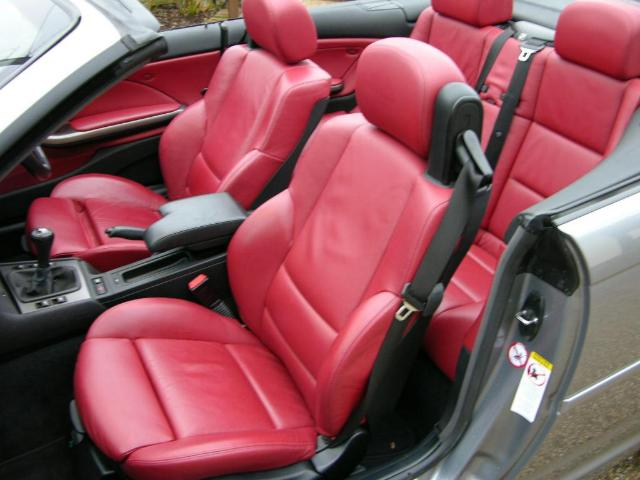Seatbelt: (330, 158, 484, 446)
